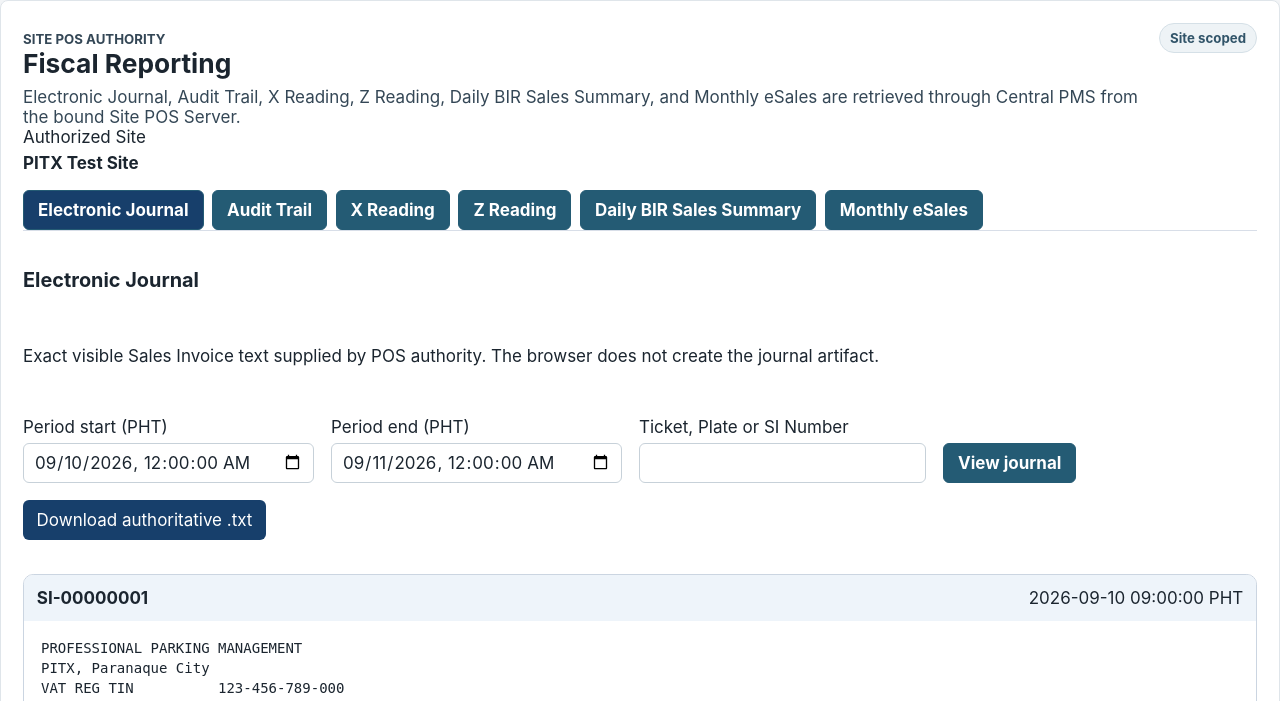
Operator Console fiscal reporting › does not permit BIR summary generation while only an open fiscal business date exists
The width and height of the screenshot is (1280, 701).
Step 1. Click the tab "Daily BIR Sales Summary" → (698, 210), box [580,190,816,230]
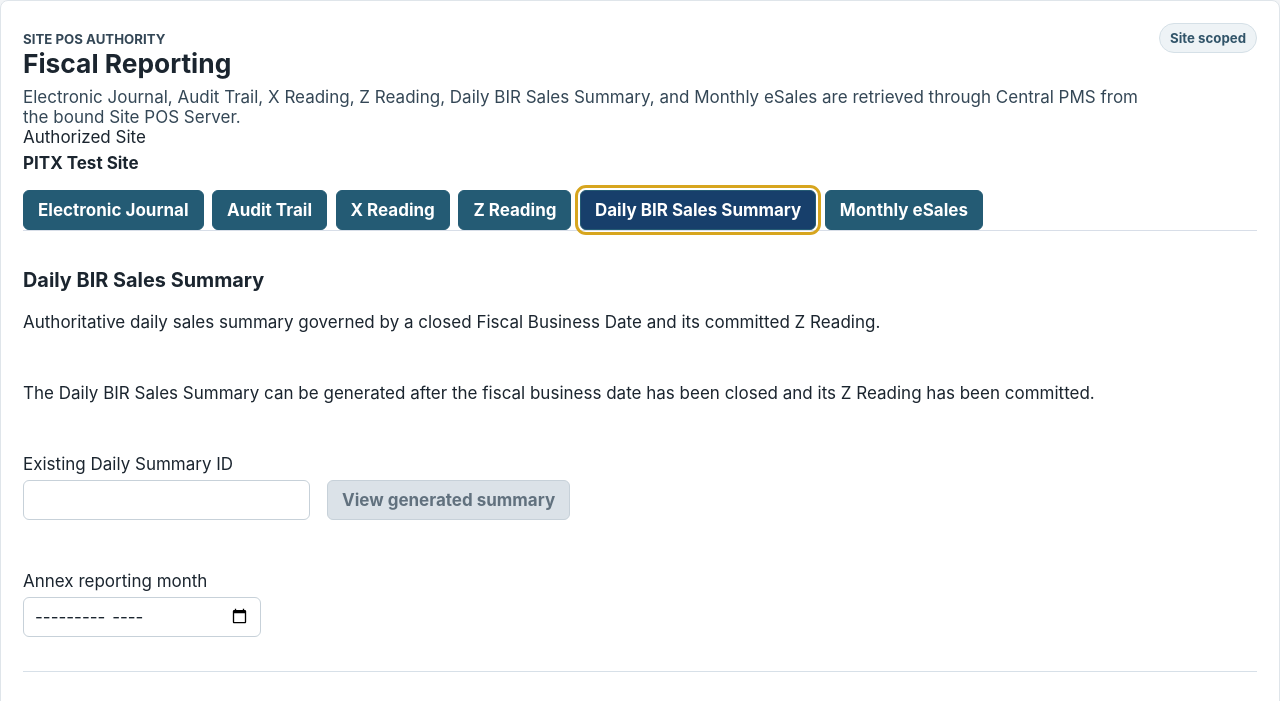
Expected: the text "The Daily BIR Sales Summary can be generated after the fiscal business date has been closed and its Z Reading has been c" is shown, [23,383,1095,403]
